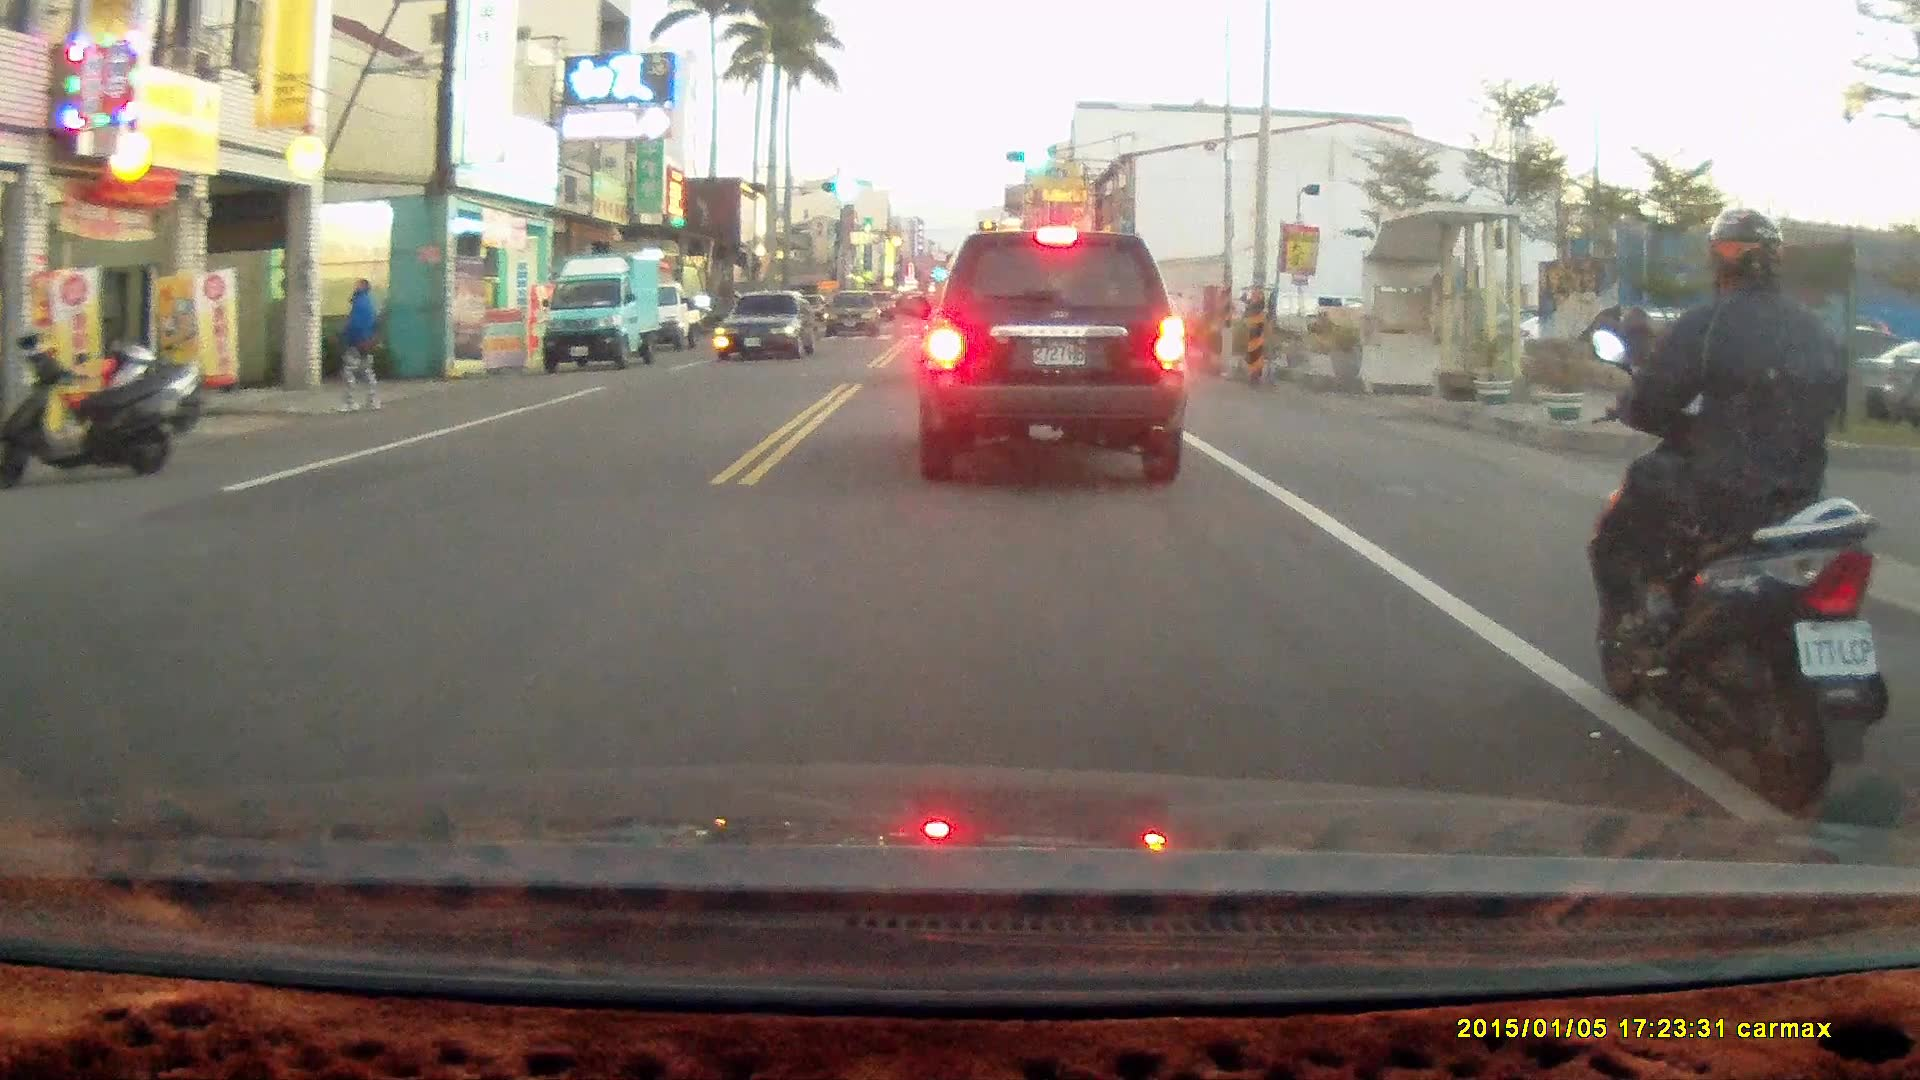pedestrian: (329, 274, 385, 415)
rider: (1585, 203, 1891, 810)
vehicle: (912, 230, 1195, 485), (544, 248, 667, 372), (714, 290, 821, 362), (826, 291, 884, 338)
